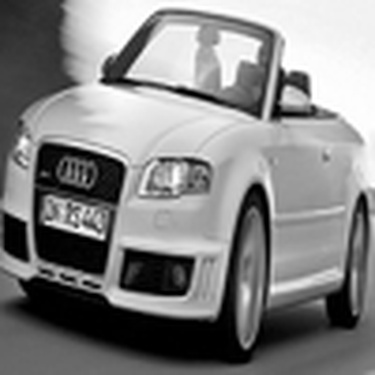car: (5, 4, 371, 364)
